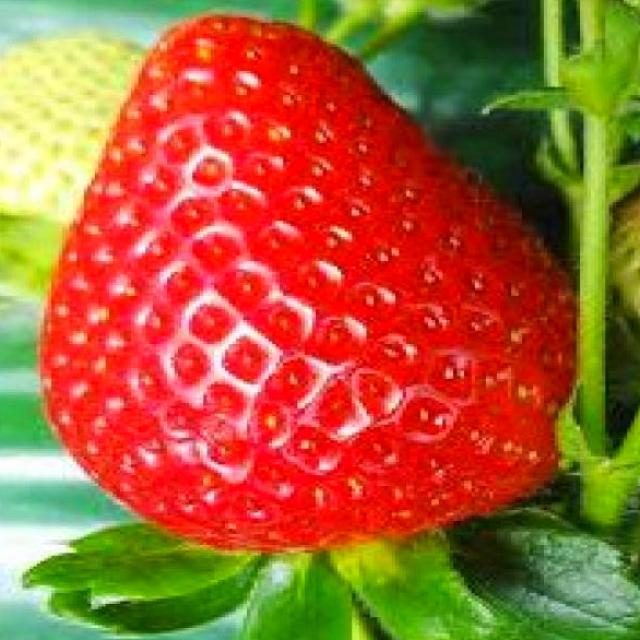Healthy Fruit: (36, 12, 579, 555)
